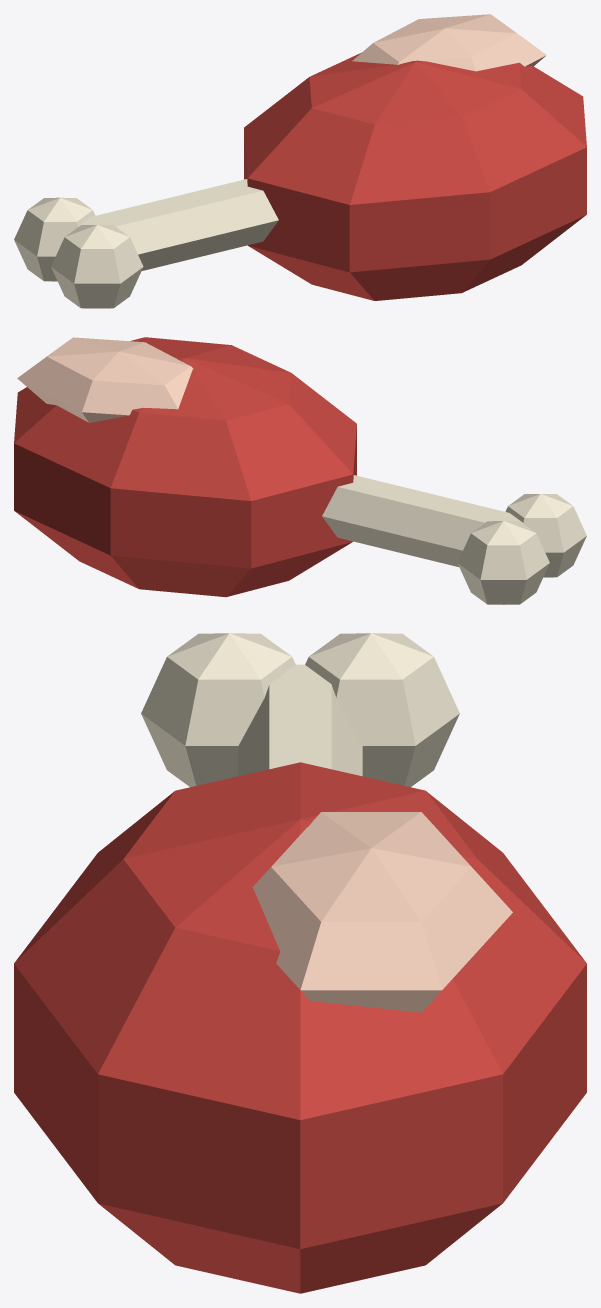
The model's file is prop_meat.glb.
The picture shows the model from 3 angles, top to bottom: view 1: azimuth 30°, elevation 25°; view 2: azimuth 150°, elevation 25°; view 3: azimuth 270°, elevation 25°; orthographic projection. The views are drawn at different scales.
Visible parts, largest first — view 1: prop_meat; view 2: prop_meat; view 3: prop_meat.
Boxes of the visible parts, x1,y1,x2,y2 form: prop_meat: (14, 14, 586, 308); prop_meat: (14, 337, 586, 604); prop_meat: (14, 633, 586, 1293).
Size of the model in its own units: 0.3363 by 0.135 by 0.1617.
1 material, 1 textured.
